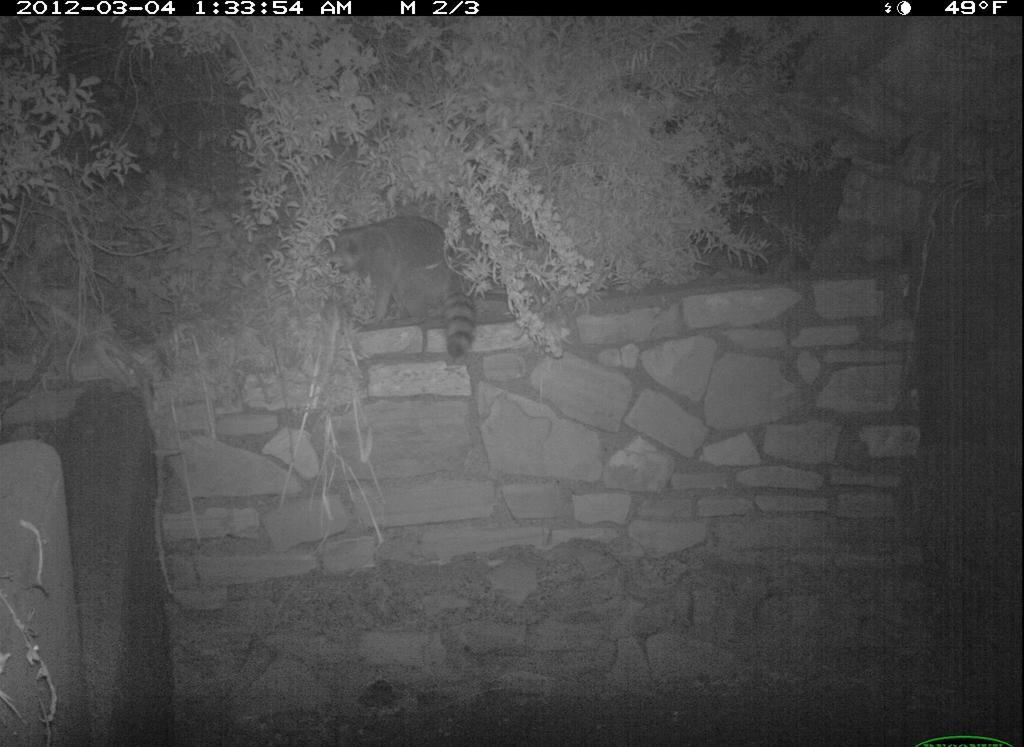raccoon: (308, 214, 484, 360)
